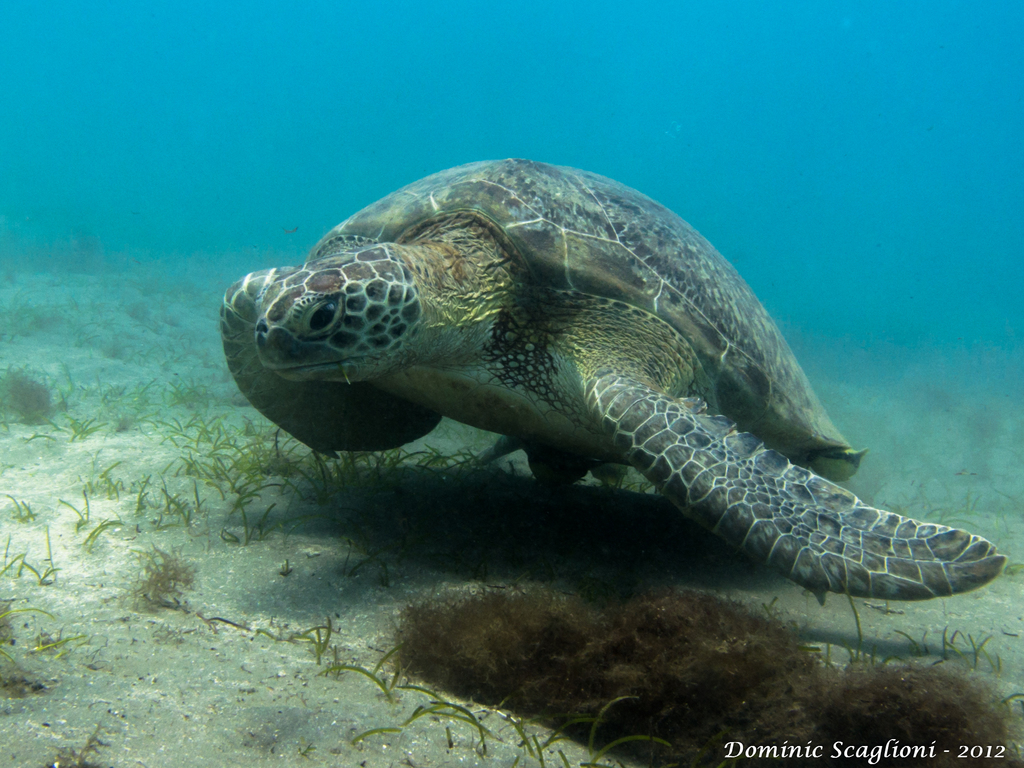Sea turtles: (223, 151, 1006, 611)
